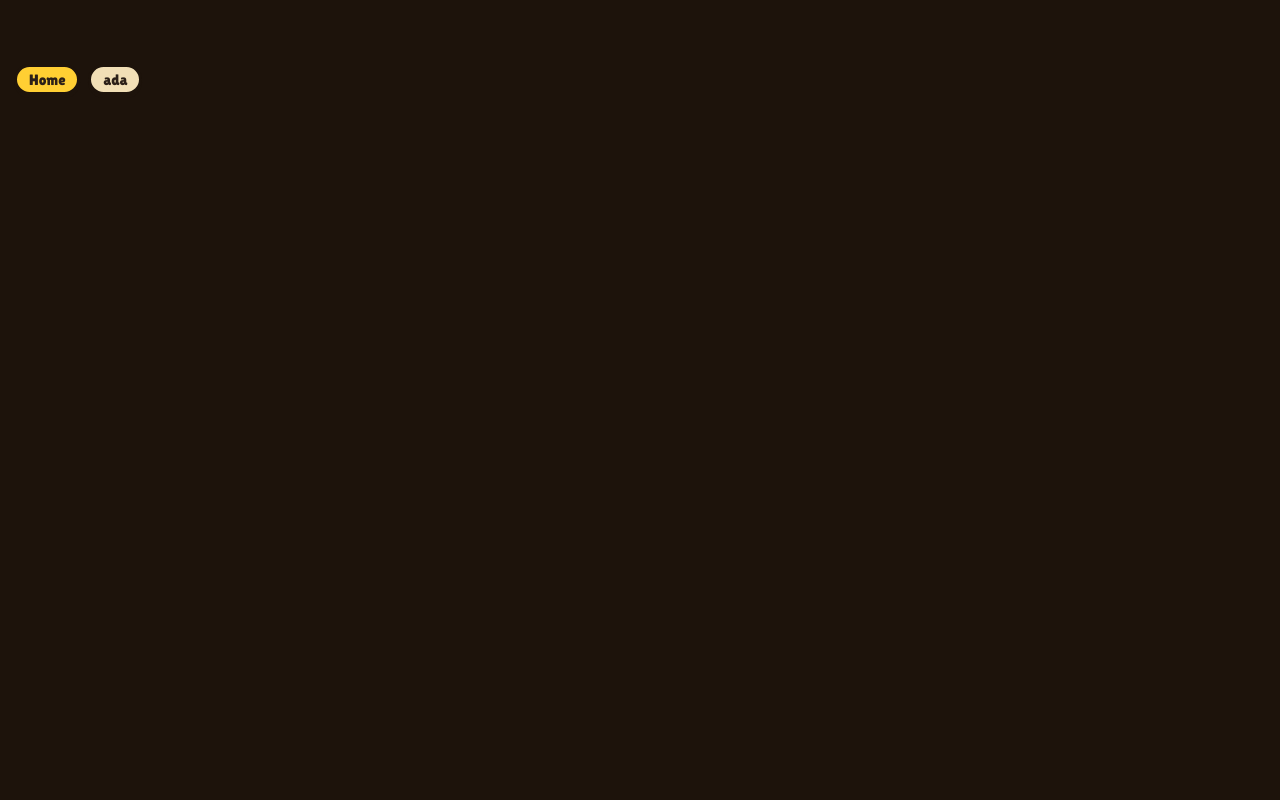
Test: a visited village is redrawn when its map changes, and says when its Mac is away
Click the button "ada".
click(116, 80)  # box [88,64,142,95]
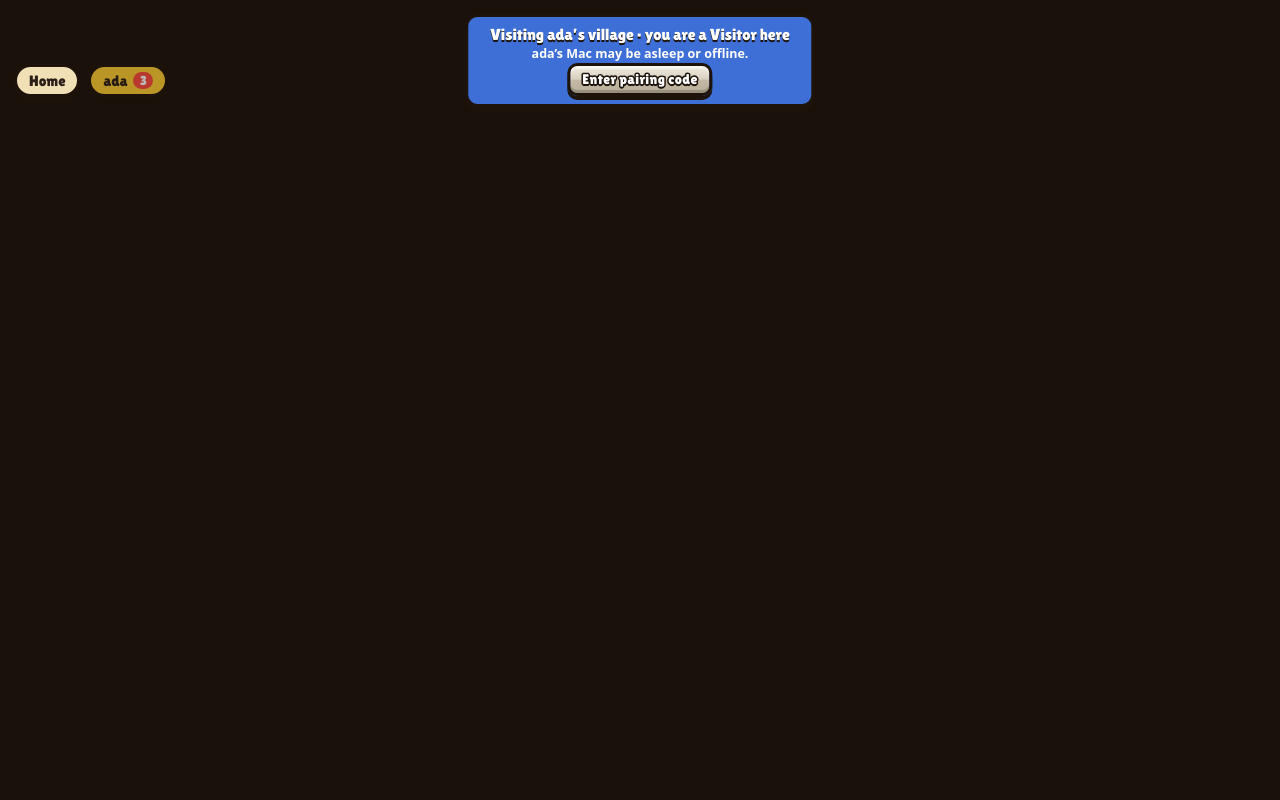
Result: the text "ada’s Mac may be asleep or offline." is shown at [532,46,748,61]
